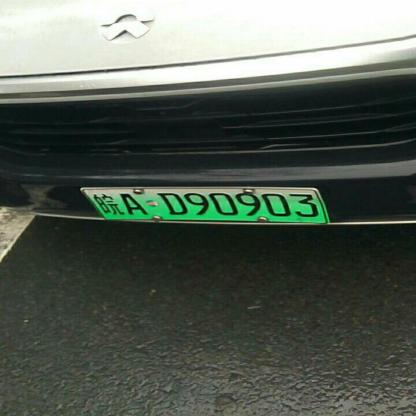lp: (82, 189, 327, 223)
